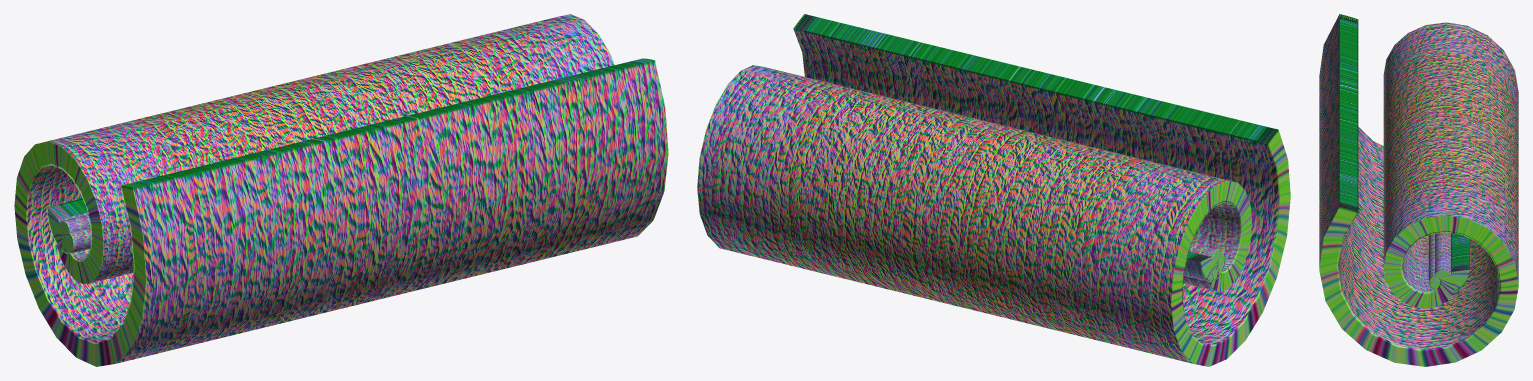
Rendered from carpet004.fbx.
The picture shows the model from 3 angles, left to right: view 1: azimuth 30°, elevation 25°; view 2: azimuth 150°, elevation 25°; view 3: azimuth 270°, elevation 25°; orthographic projection. The views are drawn at different scales.
Visible parts, largest first — view 1: carpet003__1_; view 2: carpet003__1_; view 3: carpet003__1_.
Boxes of the visible parts, x1,y1,x2,y2 form: carpet003__1_: (14, 14, 668, 366); carpet003__1_: (697, 14, 1290, 366); carpet003__1_: (1319, 14, 1518, 366).
Bounding box in the file's own units: 4094 × 1582 × 1789.
